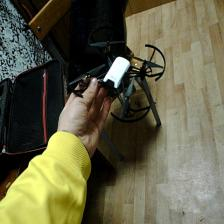drone: (66, 20, 168, 130)
